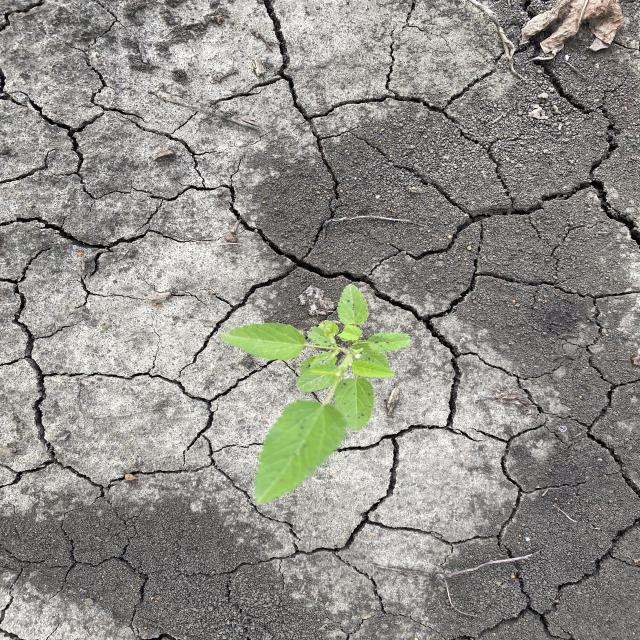PricklySida: (220, 283, 415, 507)
